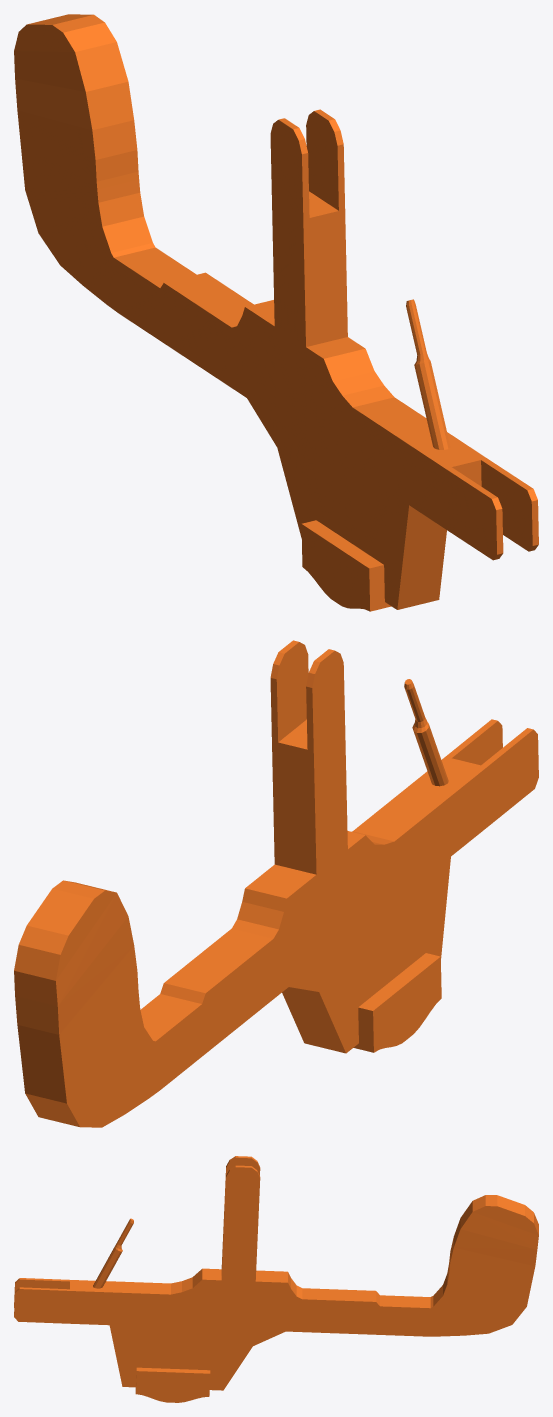
File: key_wippen.obj
3 views of the same model, one above another, from view 1: azimuth 30°, elevation 25°; view 2: azimuth 150°, elevation 25°; view 3: azimuth 270°, elevation 25° (orthographic). The views are drawn at different scales.
Visible parts, largest first — view 1: white_keys.008_Cube.047; view 2: white_keys.008_Cube.047; view 3: white_keys.008_Cube.047.
Boxes of the visible parts, x1,y1,x2,y2 form: white_keys.008_Cube.047: (14, 14, 538, 611); white_keys.008_Cube.047: (14, 640, 538, 1127); white_keys.008_Cube.047: (14, 1156, 538, 1402).
Size of the model in its own units: 0.0115 by 0.0676 by 0.1385.
1 material, 1 textured.
